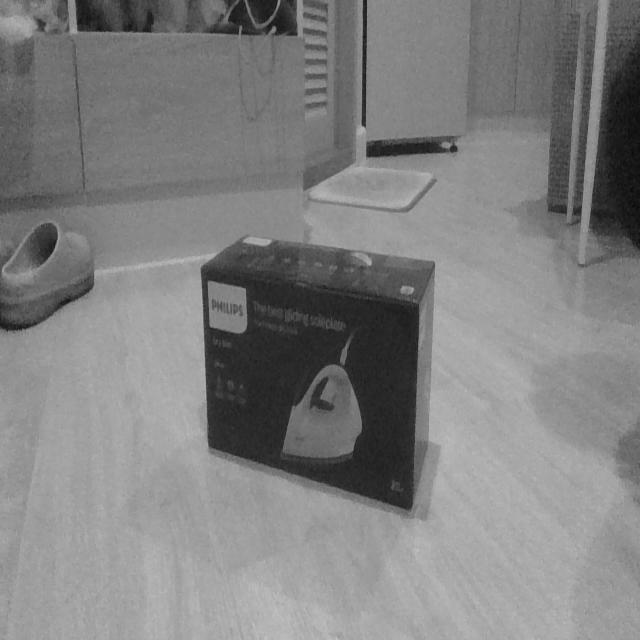IRON: (198, 230, 438, 516)
